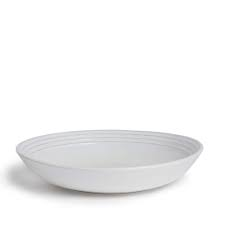bowl: (15, 126, 208, 197)
